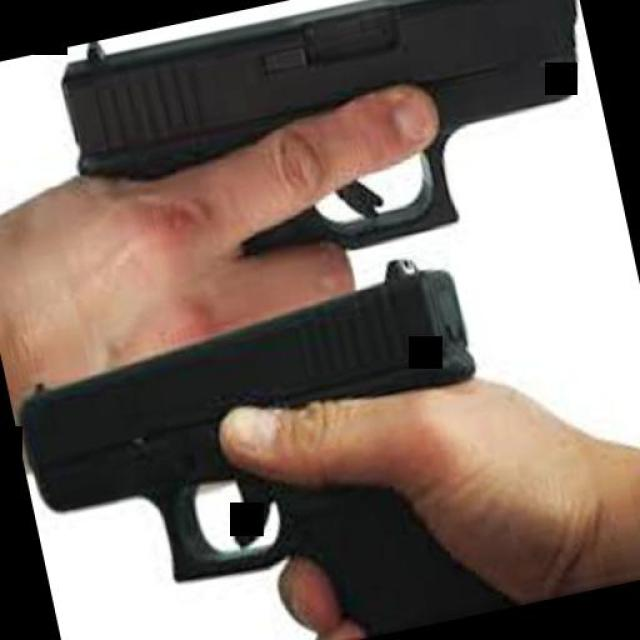gun: (0, 240, 525, 640), (37, 0, 608, 304)
